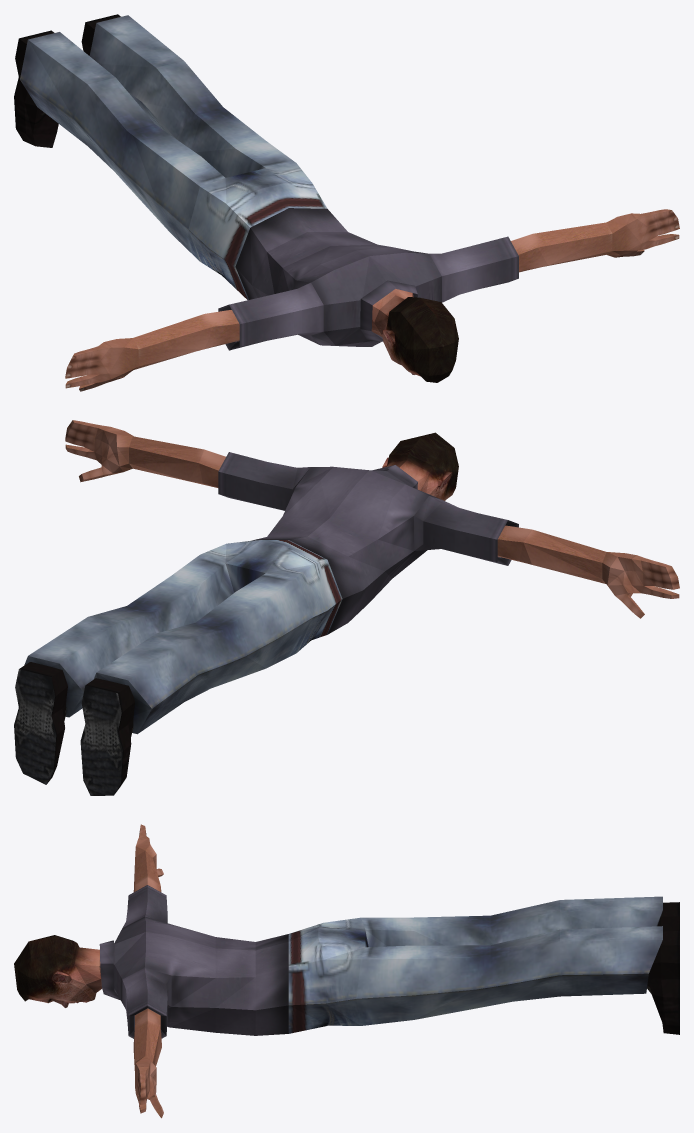
Rendered from civilianmale1TB_wtf.obj.
The picture shows the model from 3 angles, top to bottom: view 1: azimuth 30°, elevation 25°; view 2: azimuth 150°, elevation 25°; view 3: azimuth 270°, elevation 25°; orthographic projection. The views are drawn at different scales.
Visible parts, largest first — view 1: group1; view 2: group1; view 3: group1.
Part boxes in pixels (box(x1,y1,x2,y2)): group1: box(14, 14, 679, 391); group1: box(14, 420, 679, 795); group1: box(14, 824, 679, 1118).
Bounding box in the file's own units: 624 × 119 × 660.
